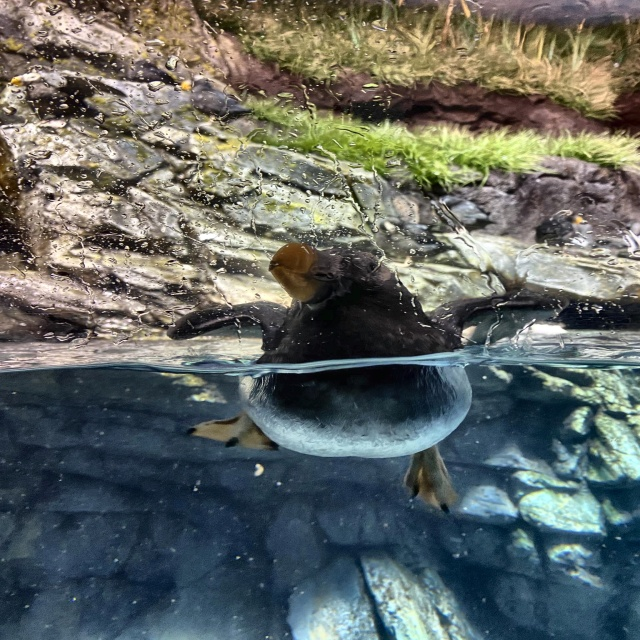puffin: (164, 245, 564, 515), (10, 73, 127, 117), (533, 208, 583, 248)
